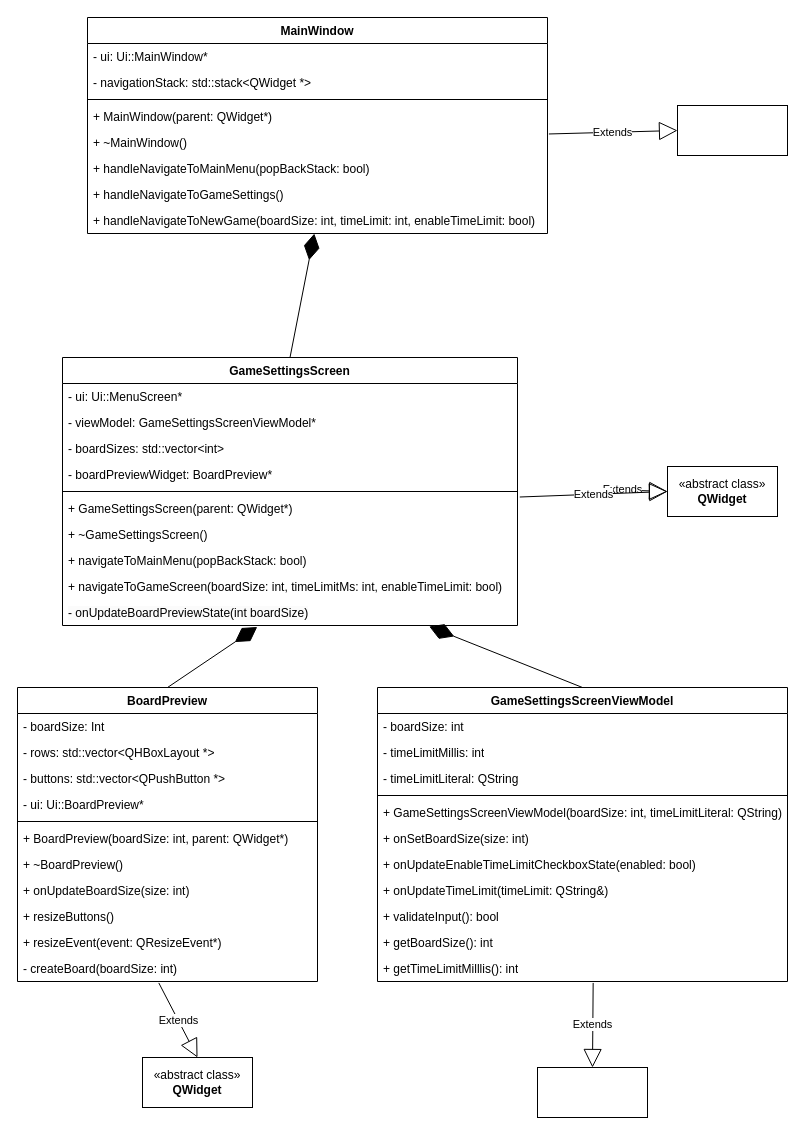
Some shapes in this 805 by 1143 pixel diagram are drawn without their labels. The centre of each missing label's shape, as x and y in pixels:
"«abstract class» QMainWindow" belongs at (x=732, y=130).
"«abstract class» QObject" belongs at (x=592, y=1092).
